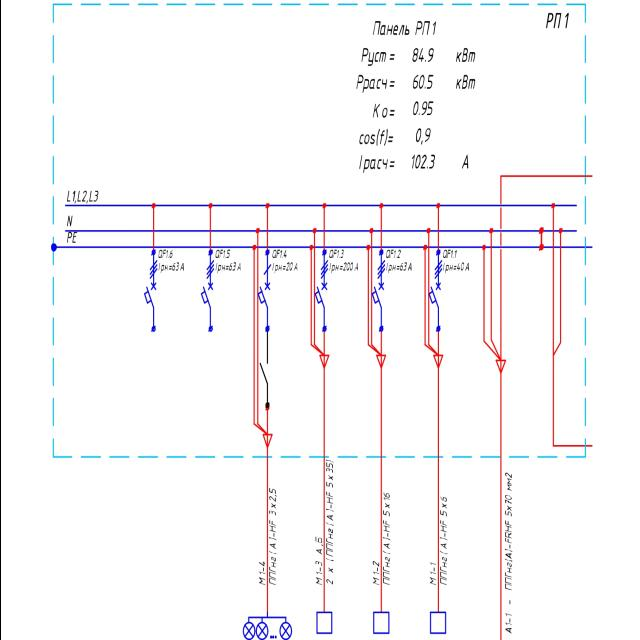-: (542, 7, 570, 31), (440, 261, 470, 274), (384, 262, 414, 274), (268, 262, 298, 274), (157, 262, 187, 274), (327, 262, 357, 274), (212, 261, 242, 273)
QF: (427, 258, 443, 310), (313, 258, 329, 310), (142, 259, 158, 310), (199, 260, 215, 310), (371, 259, 386, 311), (256, 262, 272, 310)
